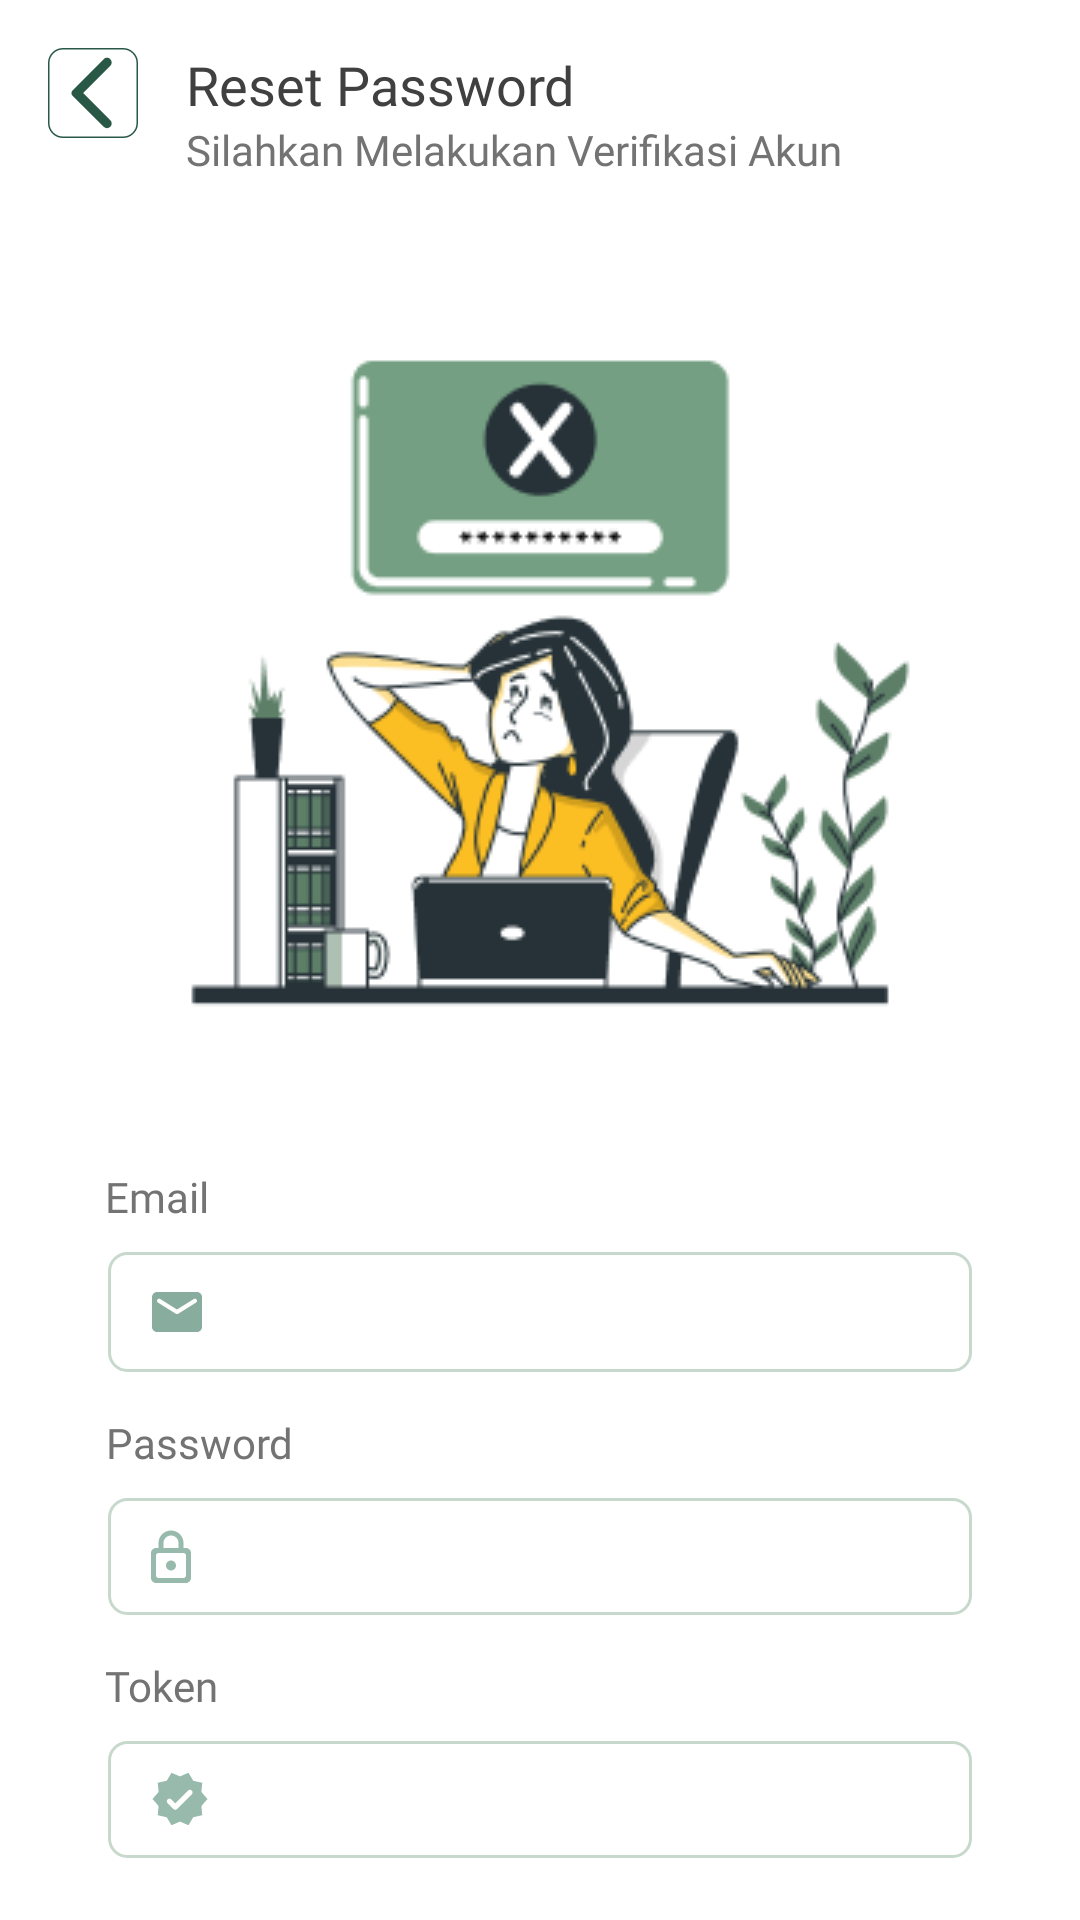

Screen size 1080*1920. Icon name, then its box in pixels as (x1,y1,x2,y2):
arrow back: (48,48,138,138)
